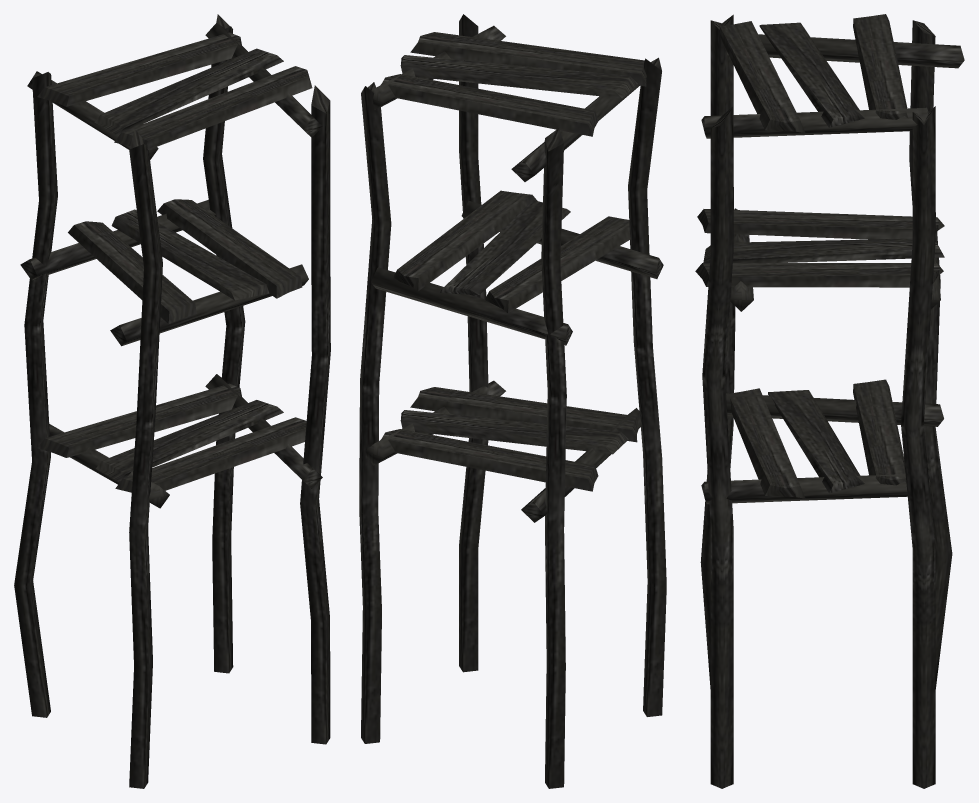
3 views of the same model, side by side, from view 1: azimuth 30°, elevation 25°; view 2: azimuth 150°, elevation 25°; view 3: azimuth 270°, elevation 25° (orthographic). The views are drawn at different scales.
Visible parts, largest first — view 1: xs_wj25; view 2: xs_wj25; view 3: xs_wj25.
Part boxes in pixels (box(x1,y1,x2,y2)): xs_wj25: box(14, 14, 330, 788); xs_wj25: box(359, 14, 666, 788); xs_wj25: box(695, 14, 964, 788).
Bounding box in the file's own units: 427 × 1204 × 434.
1 material, 1 textured.
